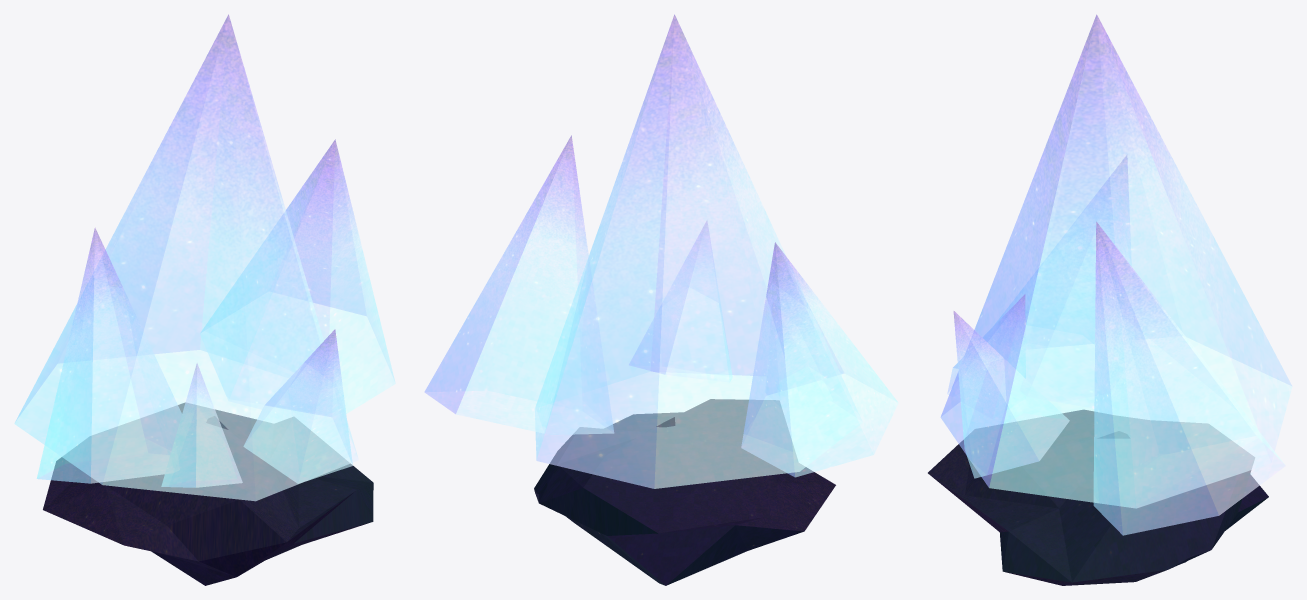
The model's file is stone-c.glb.
3 views of the same model, side by side, from view 1: azimuth 30°, elevation 25°; view 2: azimuth 150°, elevation 25°; view 3: azimuth 270°, elevation 25° (orthographic). The views are drawn at different scales.
Visible parts, largest first — view 1: Crystal_Main, Crystal_Base, Crystal_A, Crystal_B, Crystal_C, Crystal_D; view 2: Crystal_Main, Crystal_Base, Crystal_A, Crystal_B, Crystal_C; view 3: Crystal_Main, Crystal_Base, Crystal_A, Crystal_B, Crystal_C, Crystal_D.
Part boxes in pixels (x1=…): Crystal_Main: x1=14, y1=14, x2=358, y2=501; Crystal_Base: x1=43, y1=403, x2=373, y2=585; Crystal_A: x1=200, y1=139, x2=395, y2=413; Crystal_B: x1=37, y1=228, x2=196, y2=483; Crystal_C: x1=243, y1=329, x2=352, y2=483; Crystal_D: x1=161, y1=363, x2=242, y2=487; Crystal_Main: x1=535, y1=14, x2=862, y2=488; Crystal_Base: x1=534, y1=399, x2=835, y2=585; Crystal_A: x1=424, y1=135, x2=613, y2=434; Crystal_B: x1=741, y1=242, x2=898, y2=477; Crystal_C: x1=629, y1=221, x2=732, y2=382; Crystal_Main: x1=940, y1=14, x2=1292, y2=507; Crystal_Base: x1=928, y1=410, x2=1268, y2=585; Crystal_A: x1=1093, y1=222, x2=1285, y2=535; Crystal_B: x1=995, y1=155, x2=1131, y2=407; Crystal_C: x1=953, y1=311, x2=1069, y2=478; Crystal_D: x1=947, y1=295, x2=1025, y2=400.
Bounding box in the file's own units: 2.71 × 3.49 × 2.11.
Materials: 4 (4 with a texture image).
